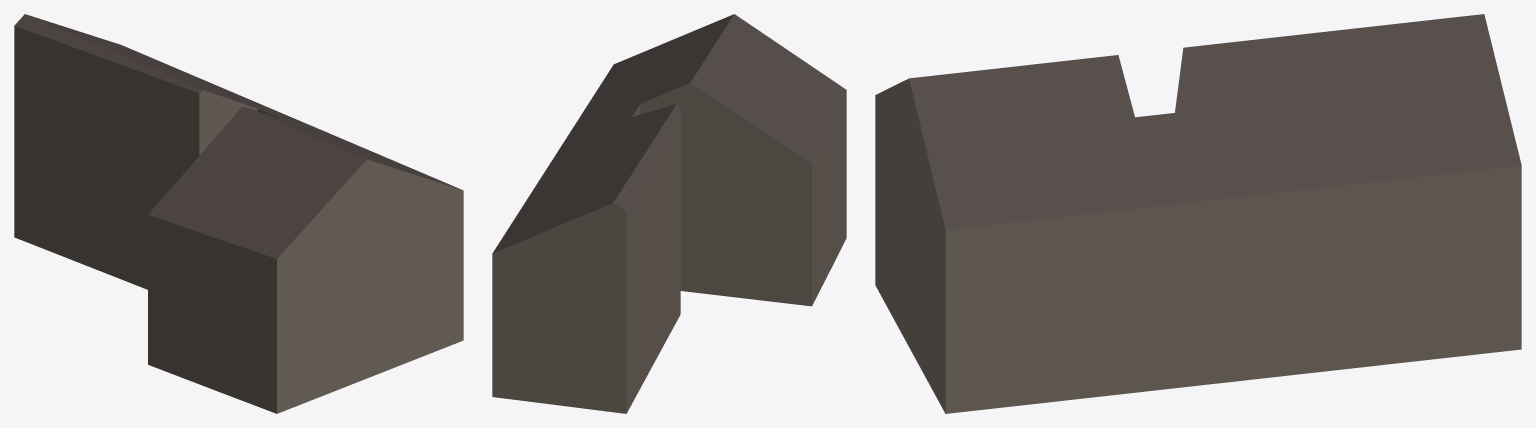
3 views of the same model, side by side, from view 1: azimuth 30°, elevation 25°; view 2: azimuth 150°, elevation 25°; view 3: azimuth 270°, elevation 25° (orthographic). The views are drawn at different scales.
Parts seen in each view (by area): view 1: HP-w1197008149; view 2: HP-w1197008149; view 3: HP-w1197008149.
Part boxes in pixels (x1,y1,x2,y2): HP-w1197008149: [14, 14, 463, 413]; HP-w1197008149: [492, 14, 846, 413]; HP-w1197008149: [875, 14, 1521, 413].
Bounding box in the file's own units: 16.43 × 13.15 × 28.66.
